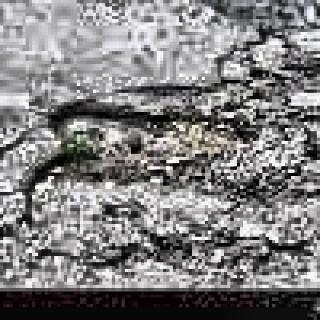pothole: (29, 53, 319, 196), (148, 232, 306, 287)
